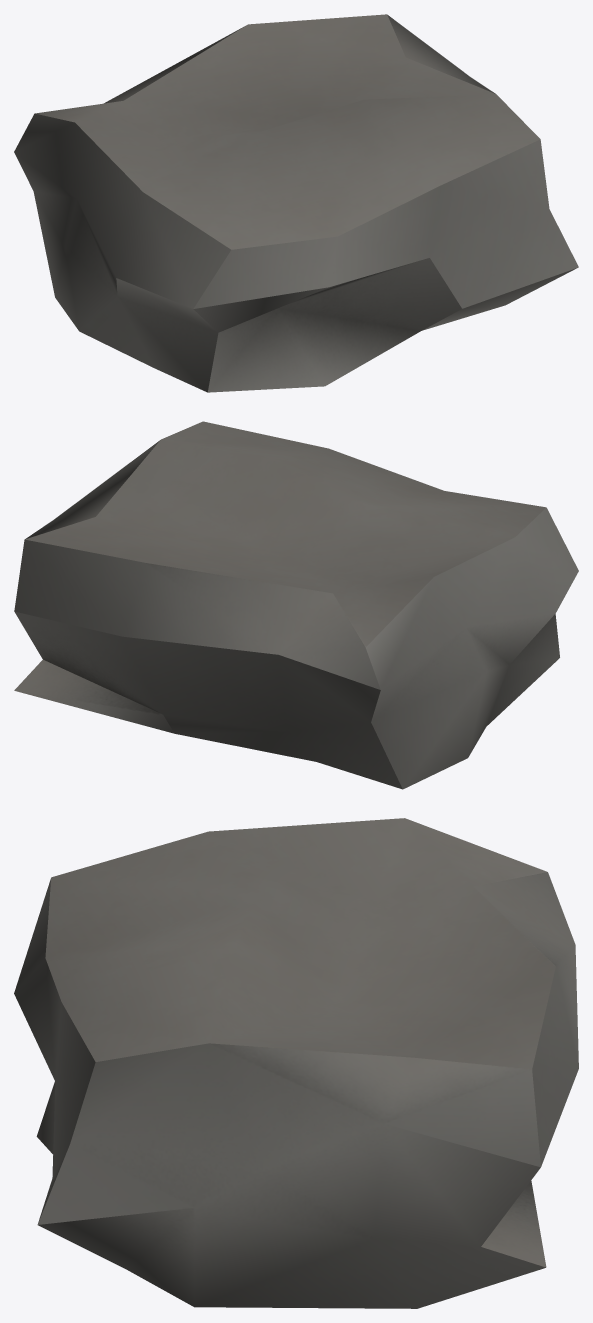
The model's file is SM_Debris_Plaster_A.fbx.
The picture shows the model from 3 angles, top to bottom: view 1: azimuth 30°, elevation 25°; view 2: azimuth 150°, elevation 25°; view 3: azimuth 270°, elevation 25°; orthographic projection. The views are drawn at different scales.
Parts seen in each view (by area): view 1: SM_Debris_Plaster_A; view 2: SM_Debris_Plaster_A; view 3: SM_Debris_Plaster_A.
Boxes of the visible parts, x1,y1,x2,y2 form: SM_Debris_Plaster_A: (14, 14, 578, 392); SM_Debris_Plaster_A: (14, 421, 578, 789); SM_Debris_Plaster_A: (14, 818, 578, 1308).
Bounding box in the file's own units: 0.1925 × 0.0985 × 0.1674.
1 material, 1 textured.
